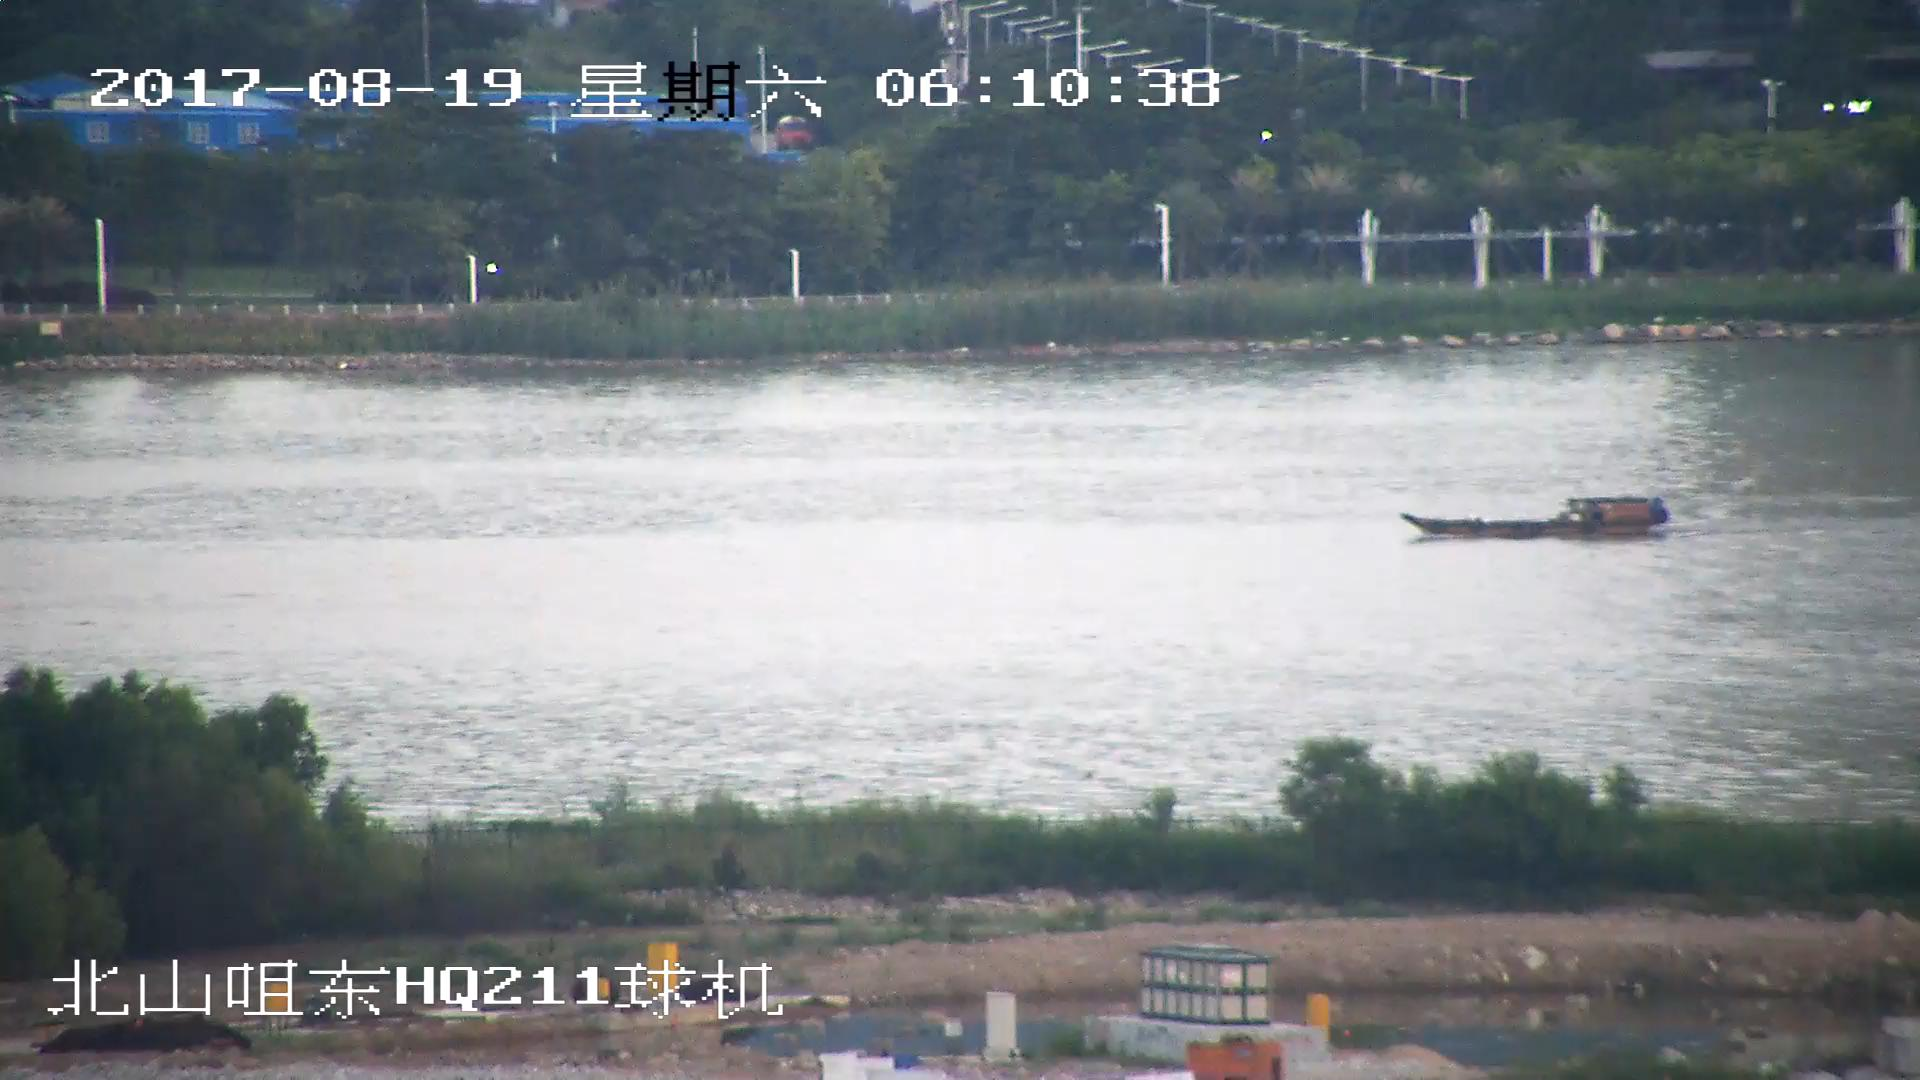fishing boat: (1404, 497, 1666, 536)
